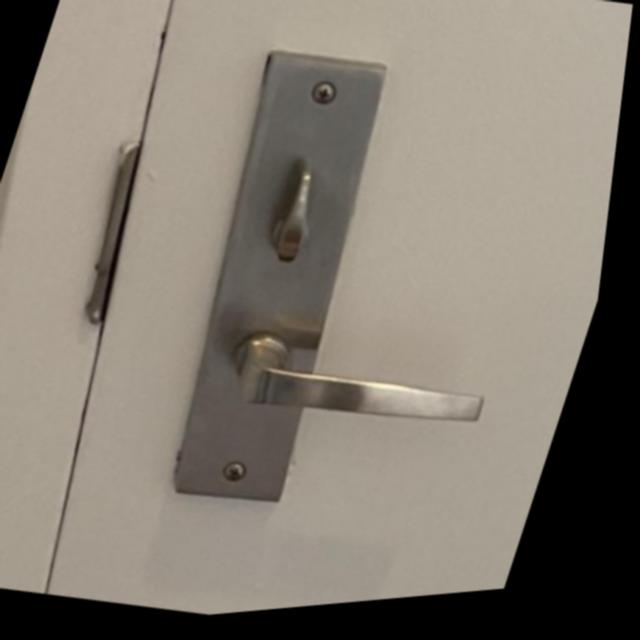door_handle: (190, 303, 537, 484)
